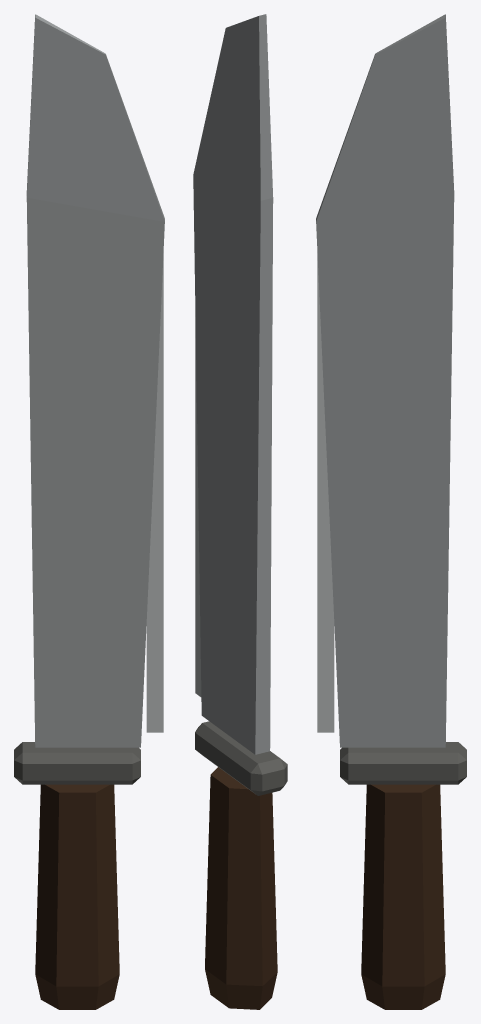
The model's file is facao.glb.
The picture shows the model from 3 angles, left to right: view 1: azimuth 90°, elevation 25°; view 2: azimuth 210°, elevation 25°; view 3: azimuth 270°, elevation 25°; orthographic projection.
Parts seen in each view (by area): view 1: facao.001; view 2: facao.001; view 3: facao.001.
Part boxes in pixels (x1,y1,x2,y2): facao.001: [14, 14, 164, 1009]; facao.001: [193, 14, 287, 1009]; facao.001: [316, 14, 466, 1009].
Bounding box in the file's own units: 0.0416 × 0.77 × 0.107.
